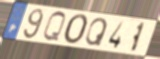1: (131, 21, 147, 54)
4: (107, 20, 127, 51)
9: (22, 8, 45, 40)
O: (62, 13, 90, 46)
Q: (41, 10, 67, 43), (84, 17, 109, 48)
